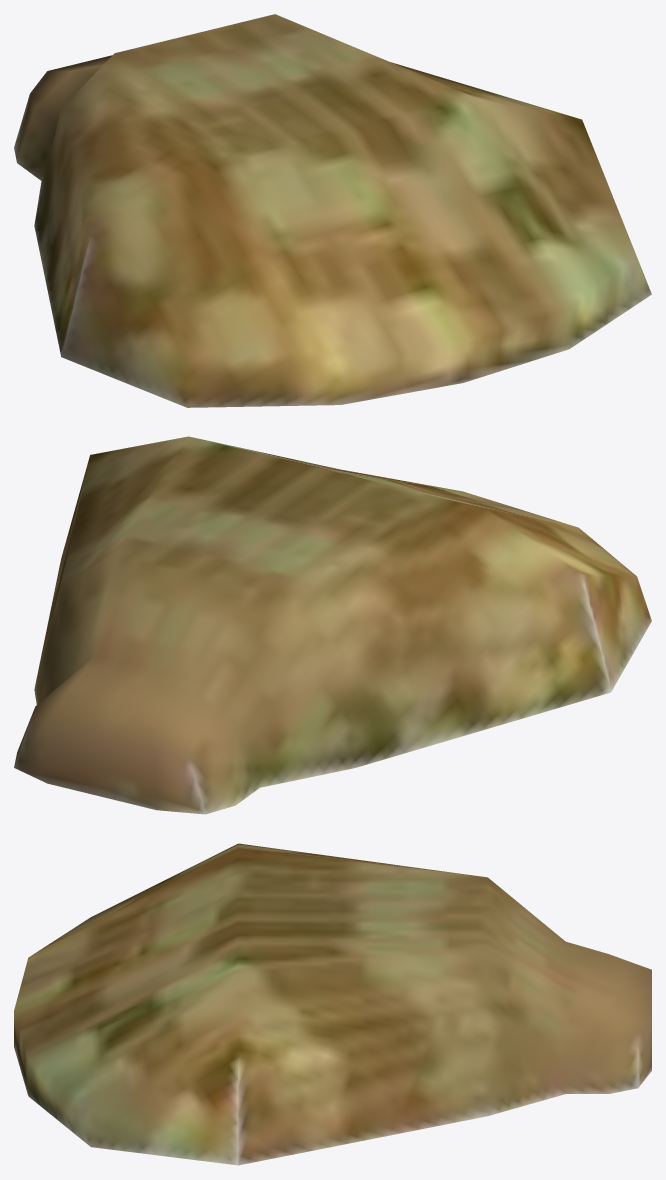
File: Shell01.glb
3 renders of one model, top to bottom at view 1: azimuth 30°, elevation 25°; view 2: azimuth 150°, elevation 25°; view 3: azimuth 270°, elevation 25°, orthographic. The views are drawn at different scales.
Visible parts, largest first — view 1: Shell01; view 2: Shell01; view 3: Shell01.
Boxes of the visible parts, box(x1,y1,x2,y2) form: Shell01: box(14, 14, 651, 407); Shell01: box(14, 436, 651, 814); Shell01: box(14, 843, 651, 1165).
Bounding box in the file's own units: 0.6242 × 0.1659 × 0.7104.
1 material, 1 textured.
